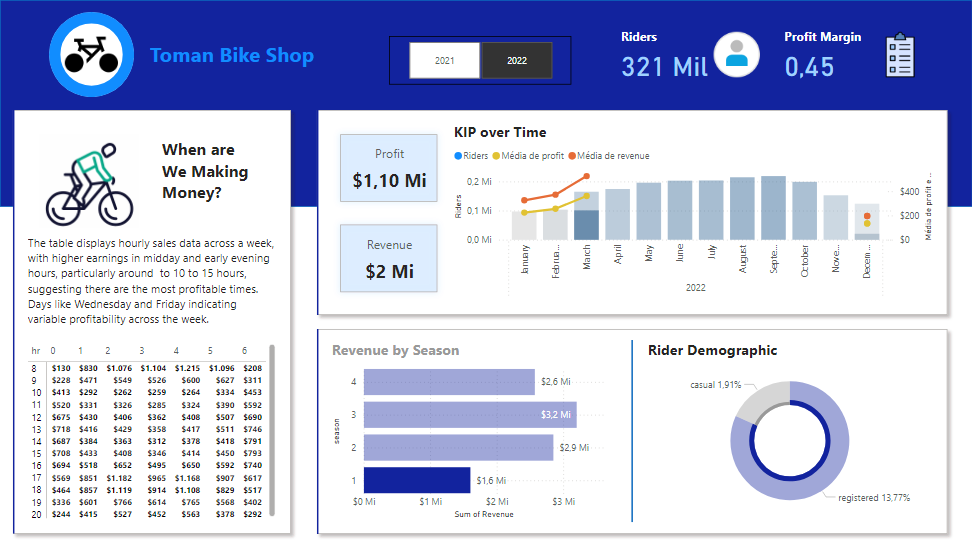

This screenshot's page, from the dashboard's own definition file:
{"tool":"powerbi","page":{"name":"Page 1","canvas":[1280,720],"ordinal":0},"visuals":[{"type":"shape","box":[0,0,1280,272],"z":0},{"type":"cardVisual","fields":{"Data":["Sum(Query2.riders)"]},"box":[0,128,400,592],"z":1000},{"type":"cardVisual","fields":{"Data":["Sum(Query2.riders)"]},"box":[400,128,864,304],"z":2000},{"type":"cardVisual","fields":{"Data":["Sum(Query2.riders)"]},"box":[400,416,864,304],"z":3000},{"type":"cardVisual","fields":{"Data":["Sum(Query2.riders)"]},"box":[32,160,176,144],"z":4000},{"type":"pivotTable","fields":{"Rows":["Query2.hr"],"Columns":["Query2.weekday"],"Values":["Avg(Query2.revenue)"]},"box":[32,448,336,240],"z":5000},{"type":"textbox","box":[208,176,144,112],"z":6000},{"type":"textbox","box":[32,304,336,144],"z":7000},{"type":"lineClusteredColumnComboChart","title":"KIP over Time","fields":{"Category":["Query2.dteday.Variation.Date Hierarchy.Year","Query2.dteday.Variation.Date Hierarchy.Month","Query2.dteday.Variation.Date Hierarchy.Day"],"Y":["Sum(Query2.riders)"],"Y2":["Avg(Query1.profit)","Avg(Query1.revenue)"]},"box":[592,160,640,240],"z":8000},{"type":"clusteredBarChart","title":"Revenue by Season","fields":{"Y":["Sum(Query1.revenue)"],"Category":["Query1.season"]},"box":[432,448,384,240],"z":9000},{"type":"donutChart","title":"Rider Demographic","fields":{"Category":["Query1.rider_type"],"Y":["Sum(Query1.riders)"]},"box":[848,448,384,240],"z":10000},{"type":"shape","box":[816,448,32,240],"z":11000},{"type":"cardVisual","title":"KIP over Time","fields":{"Data":["Sum(Query1.profit)","Sum(Query1.revenue)"]},"box":[432,160,160,240],"z":12000},{"type":"cardVisual","fields":{"Data":["Sum(Query1.riders)","Query1.Profit Margin"]},"box":[800,16,432,112],"z":13000},{"type":"shape","box":[64,16,112,112],"z":14000},{"type":"image","box":[80,32,80,80],"z":15000},{"type":"textbox","box":[192,48,352,64],"z":16000},{"type":"slicer","fields":{"Values":["Query1.Years"]},"box":[512,48,240,64],"z":17000}]}

Visuals, with their boxes in screenshot pixels (x1, y1, x2, y2), scaled from the page's 1280x720 canvas onto the 974x547 screenshot:
shape: <box>0,0,973,207</box>
cardVisual - Sum(Query2.riders): <box>0,97,304,546</box>
cardVisual - Sum(Query2.riders): <box>304,97,962,328</box>
cardVisual - Sum(Query2.riders): <box>304,316,962,546</box>
cardVisual - Sum(Query2.riders): <box>24,122,158,231</box>
pivotTable - Query2.hr x Query2.weekday: <box>24,340,280,523</box>
textbox: <box>158,134,268,219</box>
textbox: <box>24,231,280,340</box>
"KIP over Time" lineClusteredColumnComboChart: <box>450,122,937,304</box>
"Revenue by Season" clusteredBarChart: <box>329,340,621,523</box>
"Rider Demographic" donutChart: <box>645,340,937,523</box>
shape: <box>621,340,645,523</box>
"KIP over Time" cardVisual: <box>329,122,450,304</box>
cardVisual - Sum(Query1.riders) x Query1.Profit Margin: <box>609,12,937,97</box>
shape: <box>49,12,134,97</box>
image: <box>61,24,122,85</box>
textbox: <box>146,36,414,85</box>
slicer - Query1.Years: <box>390,36,572,85</box>
